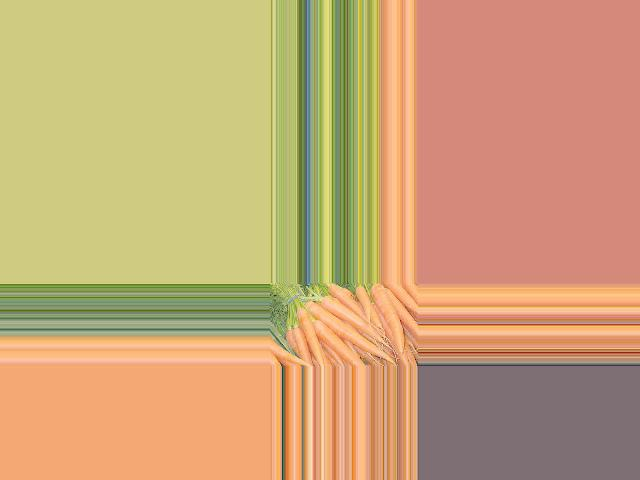carrot: (313, 320, 365, 367)
